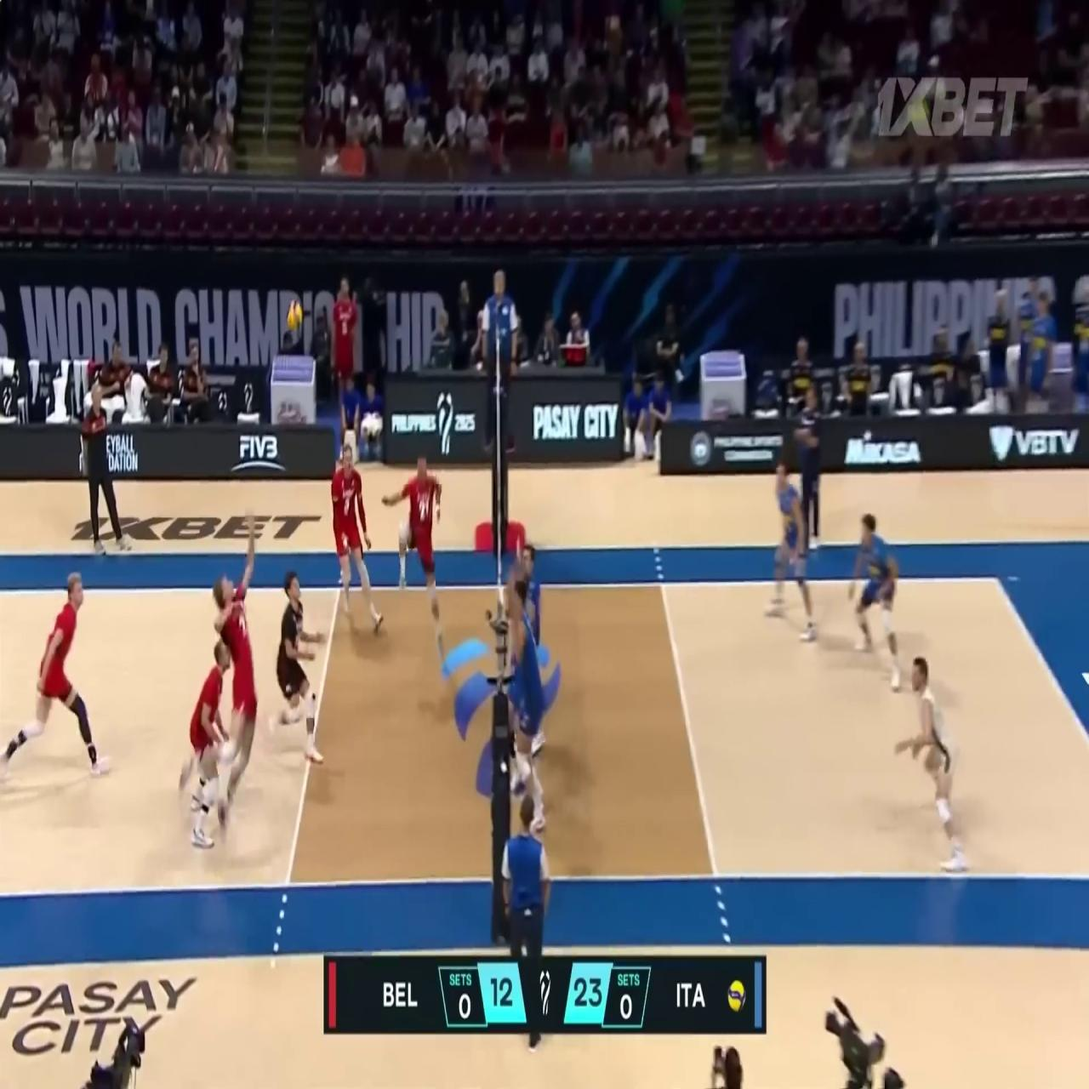ball: (287, 301, 303, 330)
